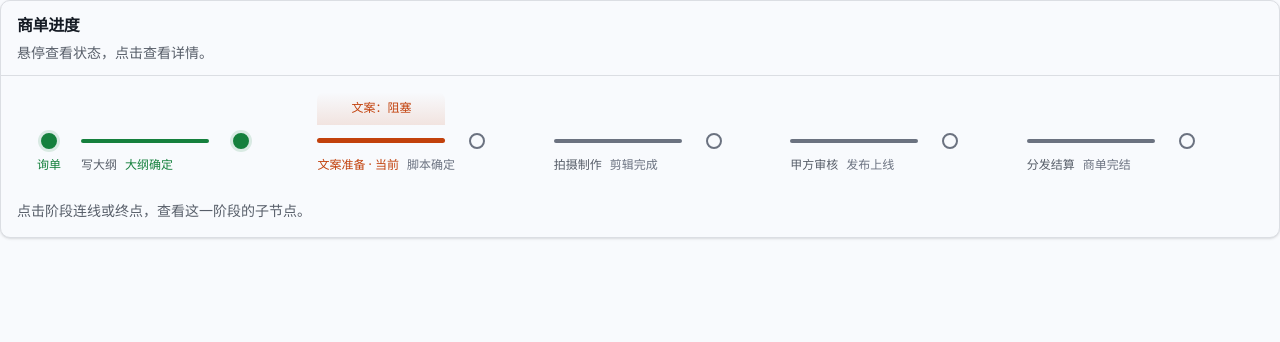
Scenario: stage tooltip focus and touch › keyboard focus opens the tooltip and touch selection does not pin it
Focus the button with test id "progress-stage" showing "文案：阻塞 文案准备 · 当前 脚本确定" at (436, 140), box [317,92,554,188]
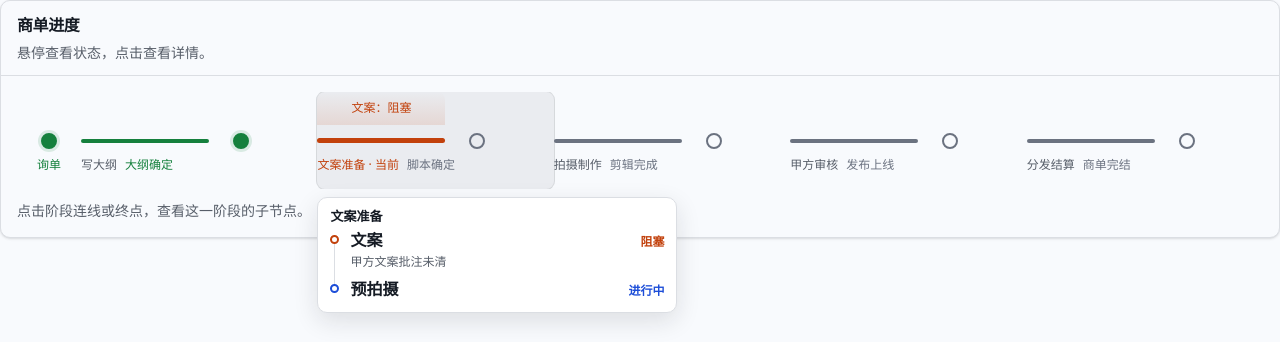
Leave the button with test id "progress-stage" showing "文案：阻塞 文案准备 · 当前 脚本确定", box [317,92,554,188]
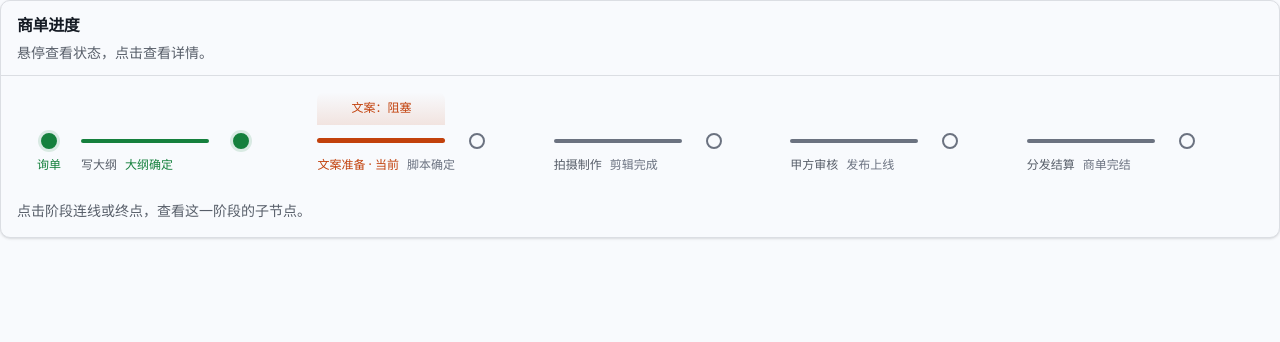
Result: the tooltip with test id "progress-stage-tooltip" is gone
Press the mouse on the button with test id "progress-stage" showing "文案：阻塞 文案准备 · 当前 脚本确定" at (436, 140), box [317,92,554,188]
Click the button with test id "progress-stage" showing "文案：阻塞 文案准备 · 当前 脚本确定" at (436, 140), box [317,92,554,188]
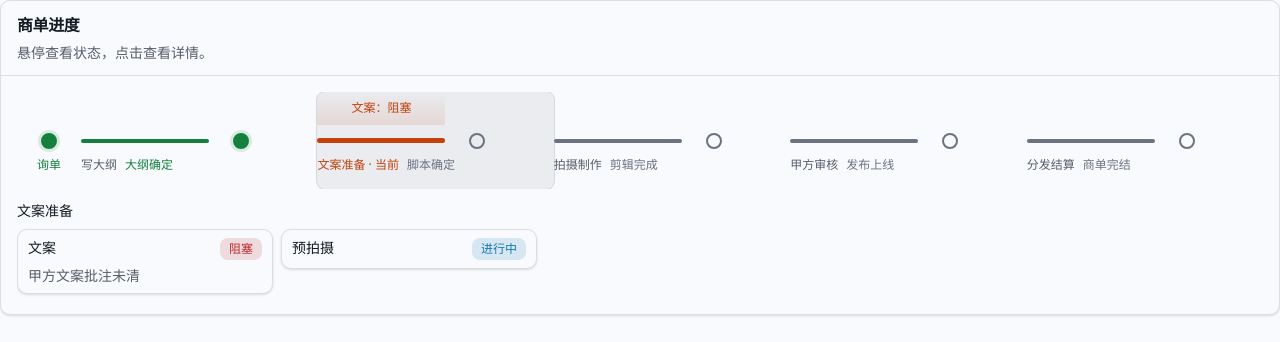
Result: the element with test id "progress-stage-detail" shows "文案准备" at [17,200,73,220]
